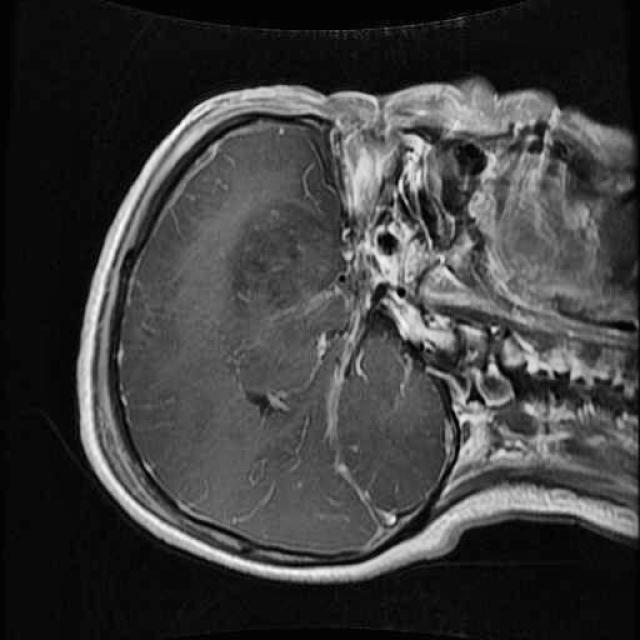Non-Tumor: (211, 175, 358, 424)
